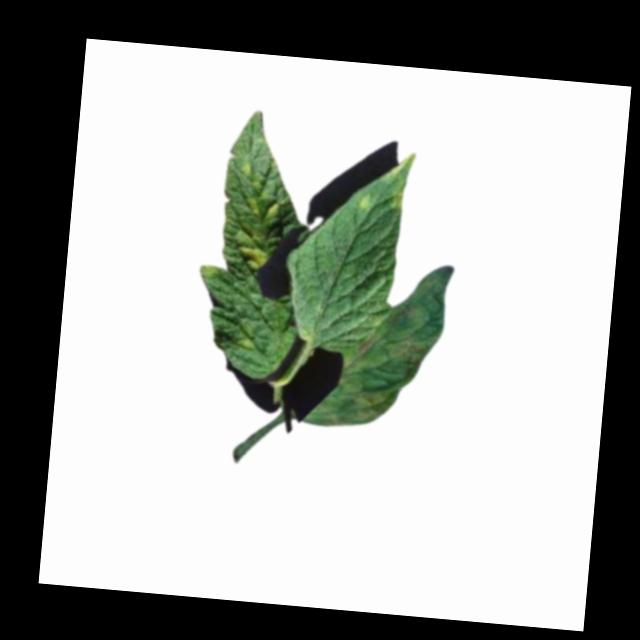Leaf_Mold: (356, 145, 419, 217), (389, 329, 440, 386), (335, 380, 394, 429), (234, 238, 269, 275)
